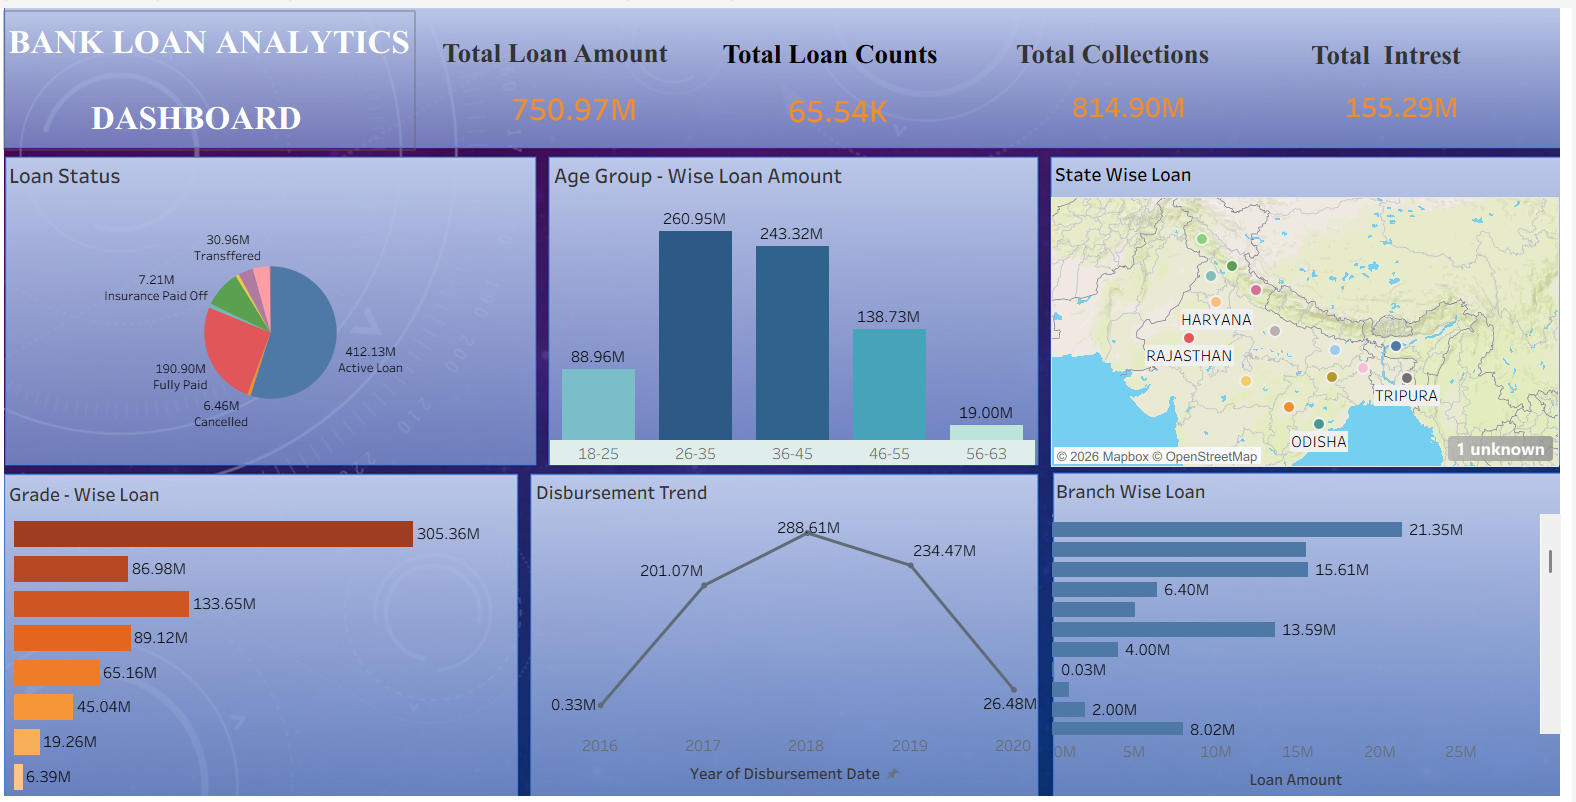

The page's visual inventory and layout, read from the dashboard file:
{"tool":"tableau","page":{"name":"Dashboard 1","canvas":[1580,901],"ordinal":0},"visuals":[{"type":"image","param":"Image/Presentation123.png","box":[8,8,1564,885]},{"type":"filter","title":"Age Group-Wise","param":"[federated.1eenh9y077ekzq1btxw840ci4t6l].[none:Age:nk]","box":[880,14,292,71]},{"type":"filter","title":"Disbursement Trend","param":"[federated.1eenh9y077ekzq1btxw840ci4t6l].[tyr:Disbursement Date:qk]","box":[26,16,445,65]},{"type":"filter","title":"loan status","param":"[federated.1eenh9y077ekzq1btxw840ci4t6l].[none:Loan Status:nk]","box":[1302,16,234,71]},{"type":"filter","title":"state wise loan ","param":"[federated.1eenh9y077ekzq1btxw840ci4t6l].[none:State Name:nk]","box":[570,18,237,71]},{"type":"worksheet","title":"total collectons","mark":"Automatic","box":[1007,92,337,150]},{"type":"worksheet","title":"total loan amount","mark":"Automatic","box":[407,95,380,145]},{"type":"worksheet","title":"total loan counts","mark":"Automatic","box":[664,100,440,137]},{"type":"text","box":[13,104,409,137]},{"type":"worksheet","title":"loan status","mark":"Pie","box":[13,249,531,308]},{"type":"worksheet","title":"Age Group-Wise","mark":"Automatic","rows":["Loan Amount"],"cols":["Age"],"box":[558,249,485,308]},{"type":"worksheet","title":"state wise loan ","mark":"Automatic","box":[1059,249,508,310]},{"type":"worksheet","title":"Branch-Wise","mark":"Automatic","rows":["Branch Name"],"cols":["Loan Amount"],"box":[1060,566,509,323]},{"type":"worksheet","title":"Disbursement Trend","mark":"Automatic","rows":["Loan Amount"],"cols":["Disbursement Date"],"box":[540,567,506,316]},{"type":"worksheet","title":"grade wise loan","mark":"Automatic","rows":["Grrade"],"cols":["Loan Amount"],"box":[13,569,515,317]}]}

Visuals, with their boxes on the page's 1580x901 design canvas (x1, y1, x2, y2). These are canvas units, not pixel positions in the 1576x802 screenshot, which may show the page scaled, cropped or inside an application window:
image: locate(8, 8, 1572, 893)
"Age Group-Wise" filter: locate(880, 14, 1172, 85)
"Disbursement Trend" filter: locate(26, 16, 471, 81)
"loan status" filter: locate(1302, 16, 1536, 87)
"state wise loan " filter: locate(570, 18, 807, 89)
"total collectons" worksheet: locate(1007, 92, 1344, 242)
"total loan amount" worksheet: locate(407, 95, 787, 240)
"total loan counts" worksheet: locate(664, 100, 1104, 237)
text: locate(13, 104, 422, 241)
"loan status" worksheet (Pie marks): locate(13, 249, 544, 557)
"Age Group-Wise" worksheet: locate(558, 249, 1043, 557)
"state wise loan " worksheet: locate(1059, 249, 1567, 559)
"Branch-Wise" worksheet: locate(1060, 566, 1569, 889)
"Disbursement Trend" worksheet: locate(540, 567, 1046, 883)
"grade wise loan" worksheet: locate(13, 569, 528, 886)
